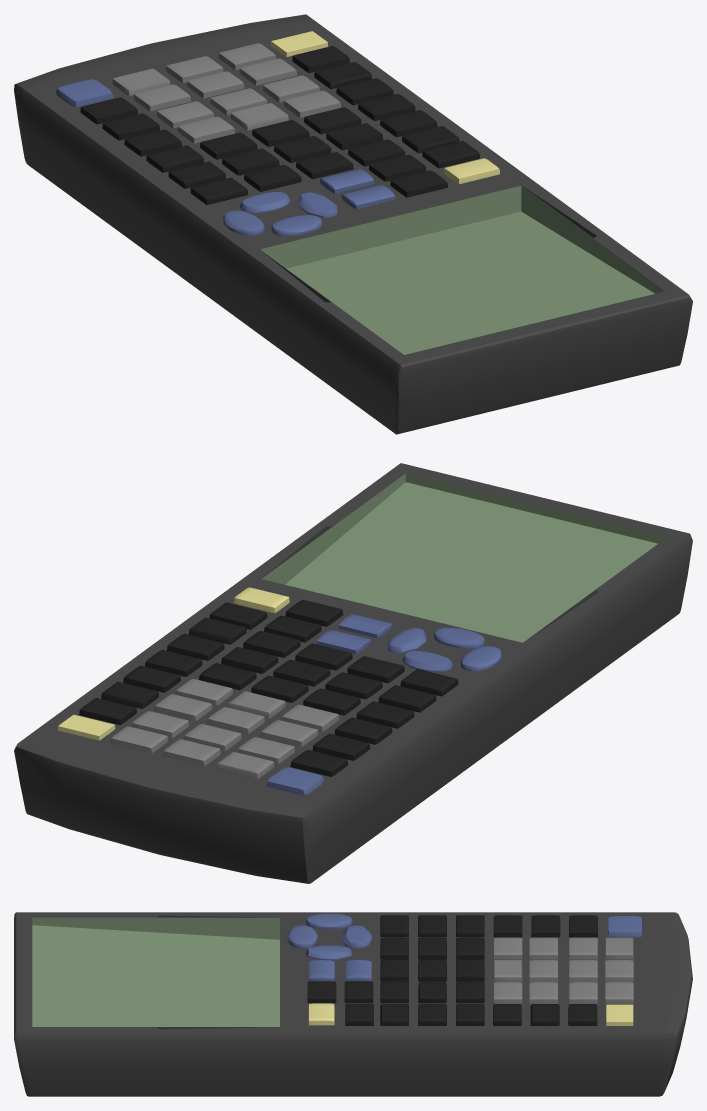
File: Calculator_MPI01_fbx.fbx
3 renders of one model, top to bottom at view 1: azimuth 30°, elevation 25°; view 2: azimuth 150°, elevation 25°; view 3: azimuth 270°, elevation 25°, orthographic. The views are drawn at different scales.
Visible parts, largest first — view 1: Calculator; view 2: Calculator; view 3: Calculator.
Part boxes in pixels (<box>): Calculator: <box>14,14,692,434</box>; Calculator: <box>14,463,692,883</box>; Calculator: <box>14,912,692,1096</box>.
Size of the model in its own units: 7.87 by 2.08 by 18.26.
